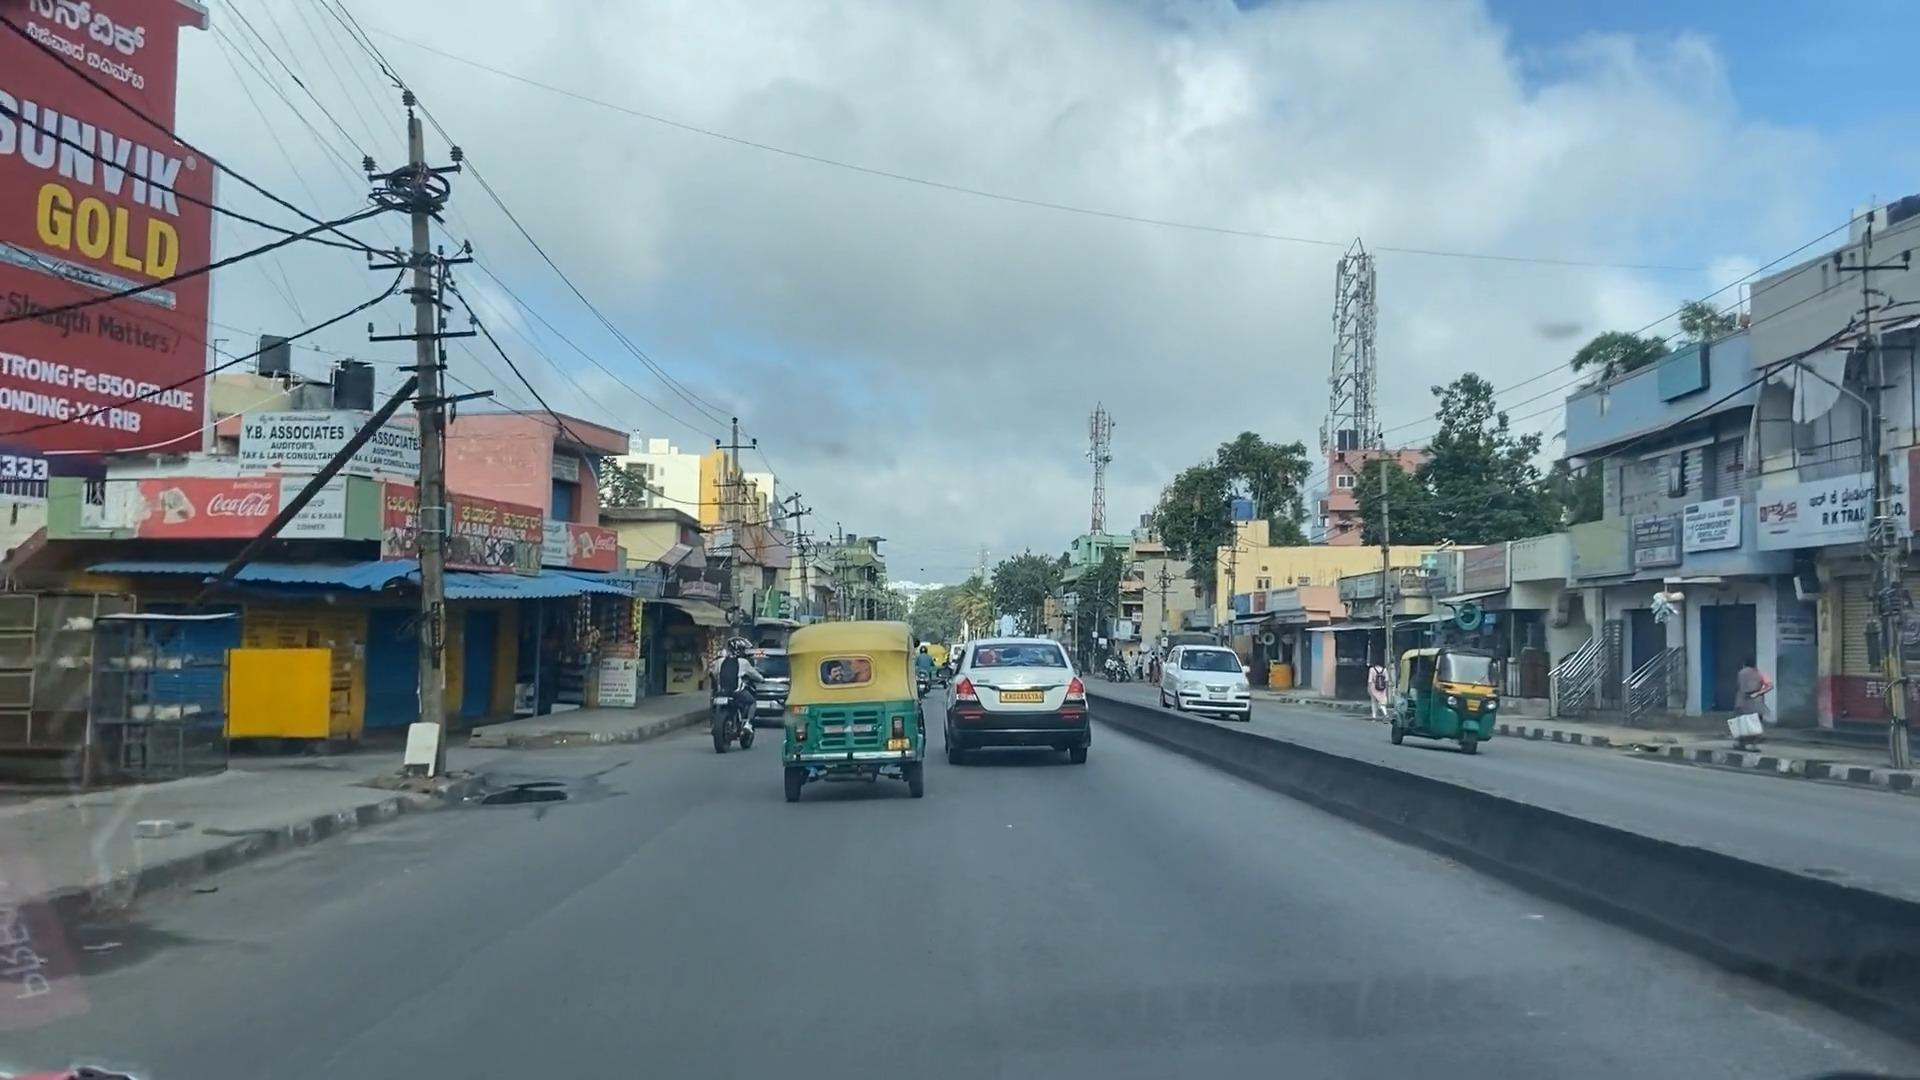LMV: (781, 624, 927, 796), (943, 638, 1102, 771)
